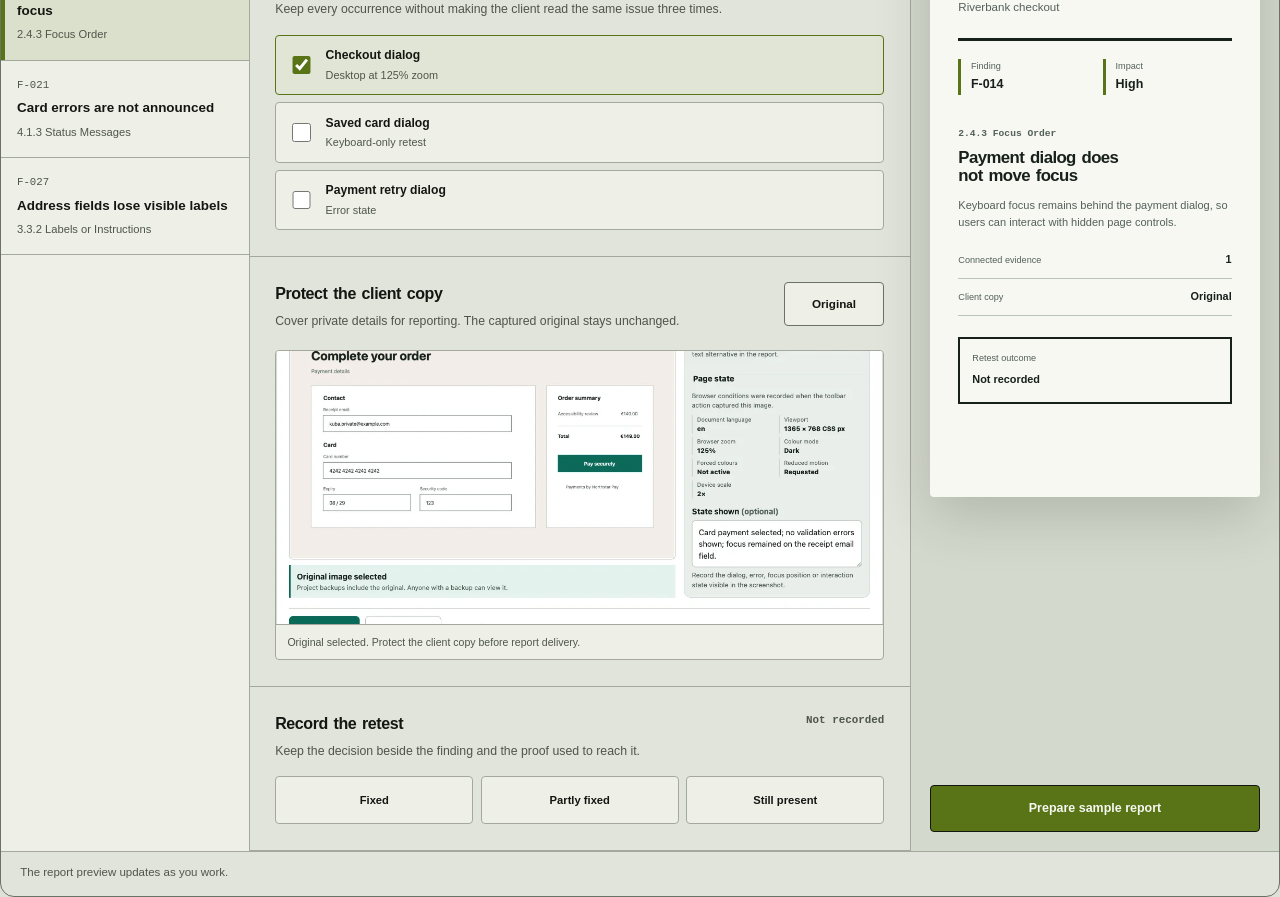
Test case: PremiumDemo › requires a protected copy and a retest before report export
The image size is (1280, 897).
(page scrolled)
Click the button "Prepare sample report".
click(1095, 808)  # box 930,785 -> 1260,832
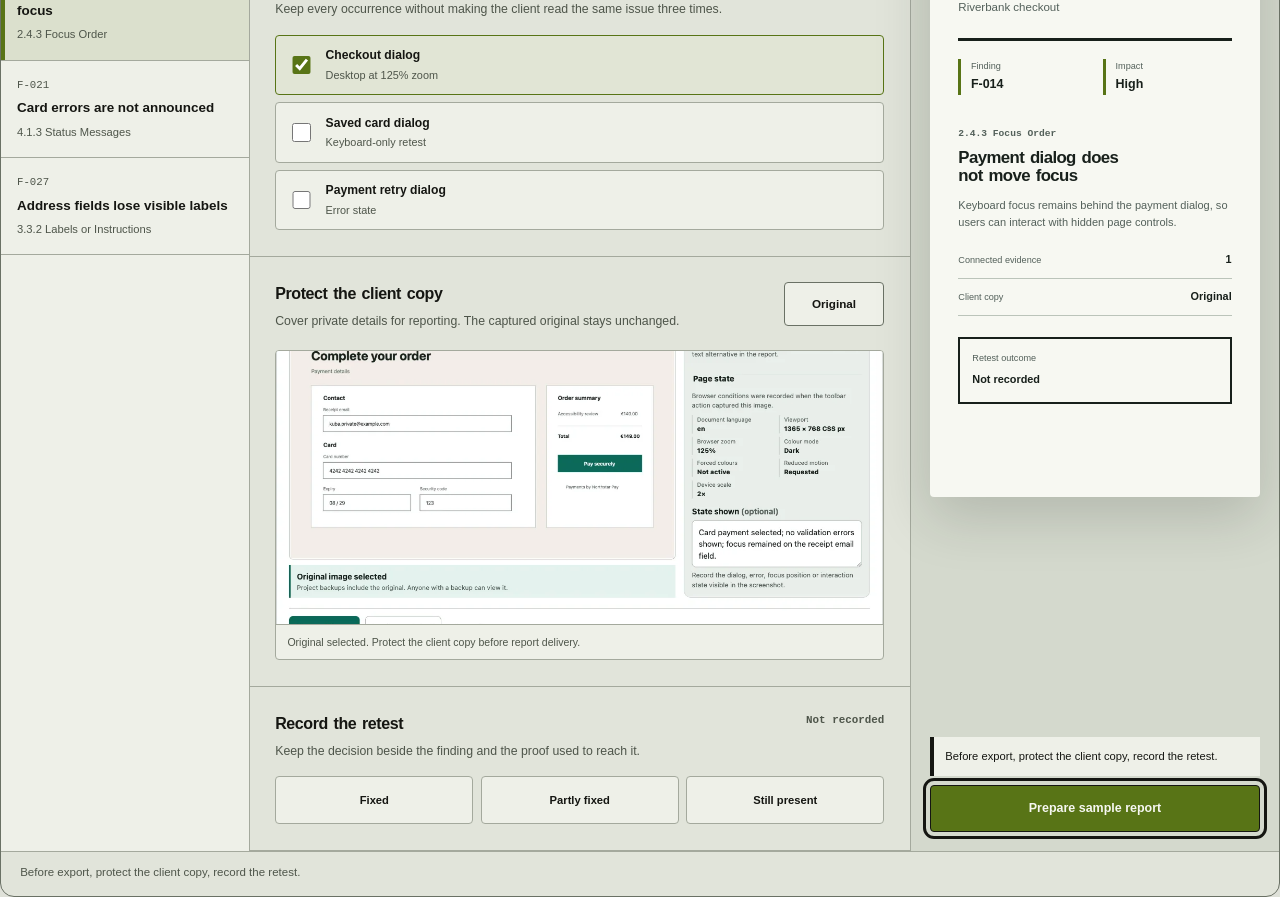
Check: the message shows "protect the client copy", box 945,750 -> 1218,762
